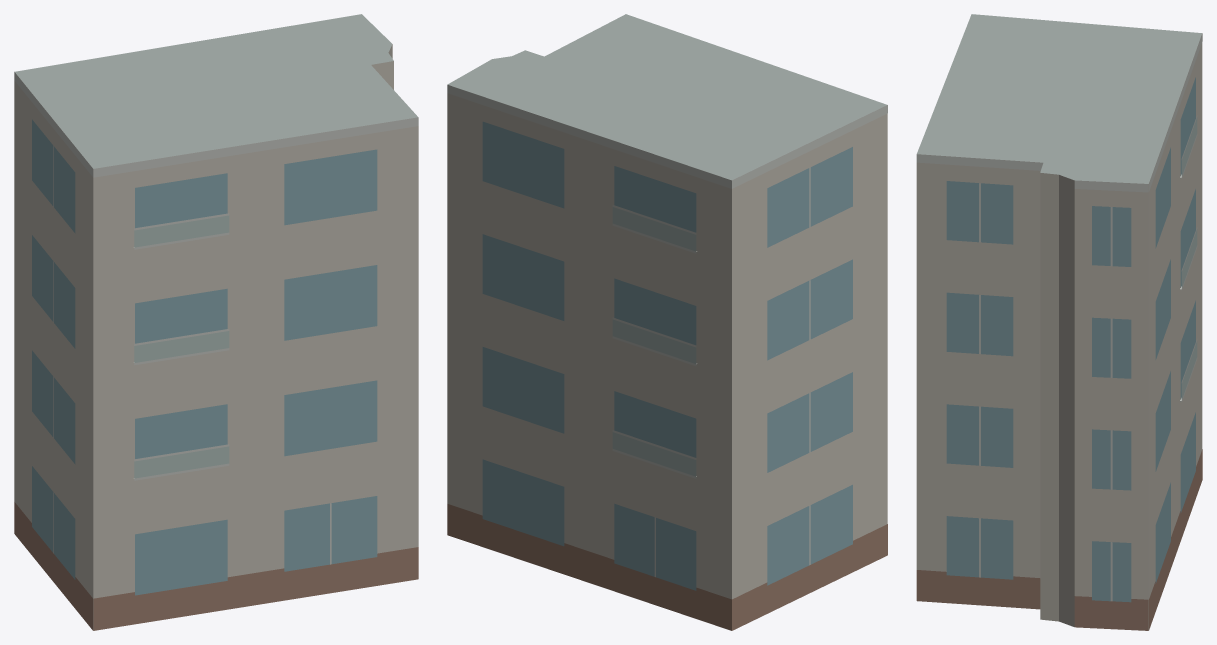
Rendered from survey-upis-32464439.glb.
3 views of the same model, side by side, from view 1: azimuth 30°, elevation 25°; view 2: azimuth 150°, elevation 25°; view 3: azimuth 270°, elevation 25° (orthographic). The views are drawn at different scales.
Visible parts, largest first — view 1: survey-upis-32464439.tmp; view 2: survey-upis-32464439.tmp; view 3: survey-upis-32464439.tmp.
Boxes of the visible parts, x1=… form: survey-upis-32464439.tmp: x1=14, y1=14, x2=418, y2=630; survey-upis-32464439.tmp: x1=447, y1=14, x2=887, y2=630; survey-upis-32464439.tmp: x1=916, y1=14, x2=1202, y2=630.
Bounding box in the file's own units: 10.53 × 12.9 × 7.49.
